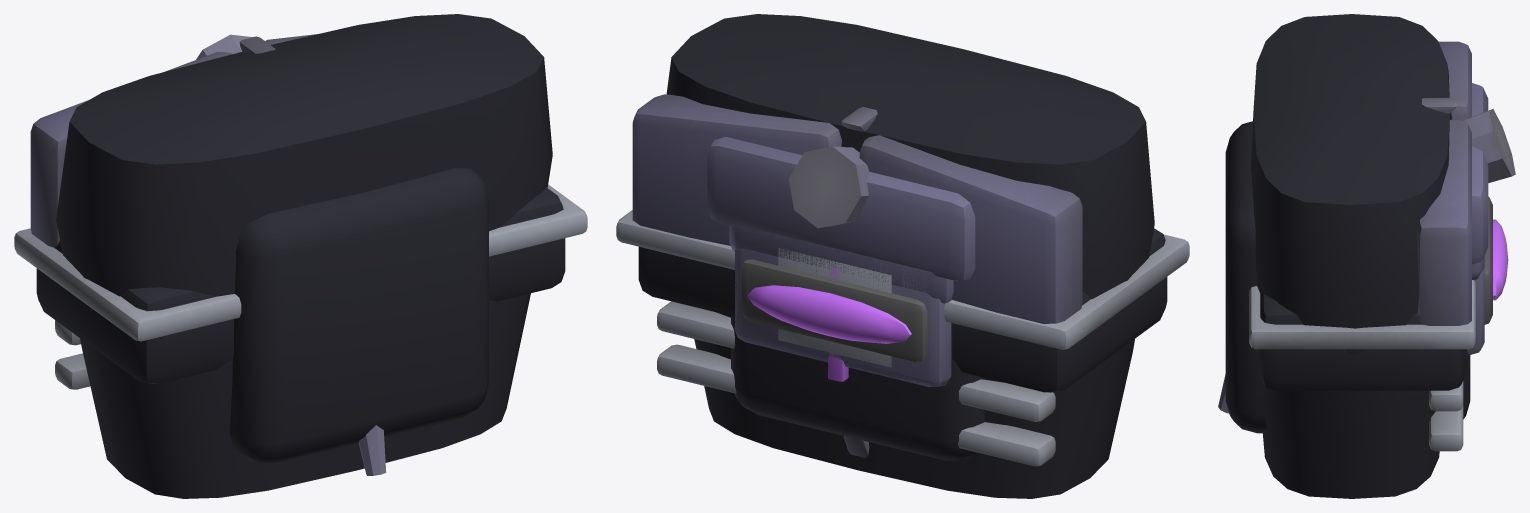
File: Voidhound.fbx
3 views of the same model, side by side, from view 1: azimuth 30°, elevation 25°; view 2: azimuth 150°, elevation 25°; view 3: azimuth 270°, elevation 25° (orthographic). The views are drawn at different scales.
Visible parts, largest first — view 1: UpperTorso.001, Head.001, LowerTorso.001, HoundTail.001; view 2: UpperTorso.001, Head.001, LowerTorso.001, HoundTail.001, LeftUpperLeg.001, RightUpperLeg.001, LeftUpperArm.001, LeftLowerArm.001, RightUpperArm.001, RightLowerArm.001, HoundSpines.001; view 3: UpperTorso.001, LowerTorso.001, Head.001, HoundTail.001, LeftUpperLeg.001, HoundSpines.001.
Part boxes in pixels (bbox=[...]): UpperTorso.001: bbox=[30, 14, 552, 498]; Head.001: bbox=[229, 168, 488, 463]; LowerTorso.001: bbox=[14, 184, 587, 383]; HoundTail.001: bbox=[196, 34, 386, 475]; UpperTorso.001: bbox=[632, 14, 1154, 498]; Head.001: bbox=[707, 137, 984, 460]; LowerTorso.001: bbox=[616, 210, 1189, 392]; HoundTail.001: bbox=[788, 146, 869, 228]; LeftUpperLeg.001: bbox=[735, 234, 947, 386]; RightUpperLeg.001: bbox=[735, 228, 951, 387]; LeftUpperArm.001: bbox=[734, 225, 953, 303]; LeftLowerArm.001: bbox=[778, 248, 891, 367]; RightUpperArm.001: bbox=[729, 225, 942, 300]; RightLowerArm.001: bbox=[778, 250, 891, 366]; HoundSpines.001: bbox=[841, 107, 877, 457]; UpperTorso.001: bbox=[1251, 14, 1471, 498]; LowerTorso.001: bbox=[1249, 280, 1475, 390]; Head.001: bbox=[1225, 83, 1508, 433]; HoundTail.001: bbox=[1218, 109, 1515, 413]; LeftUpperLeg.001: bbox=[1467, 267, 1484, 354]; HoundSpines.001: bbox=[1421, 98, 1456, 113].
Size of the model in its own units: 2 by 1.6 by 1.26.
1 material, 1 textured.
